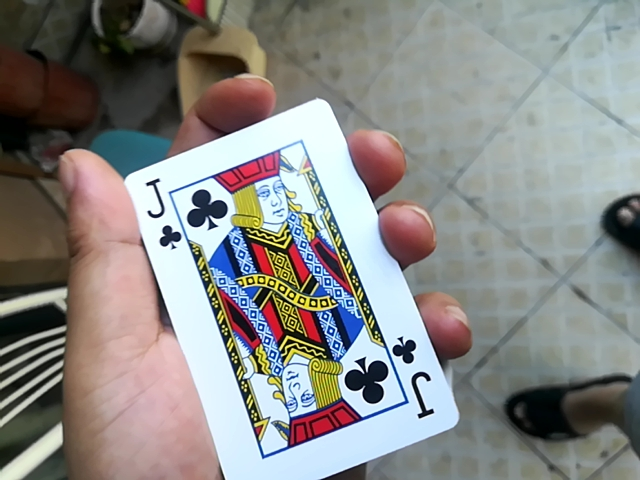mh j: (119, 94, 438, 480)
